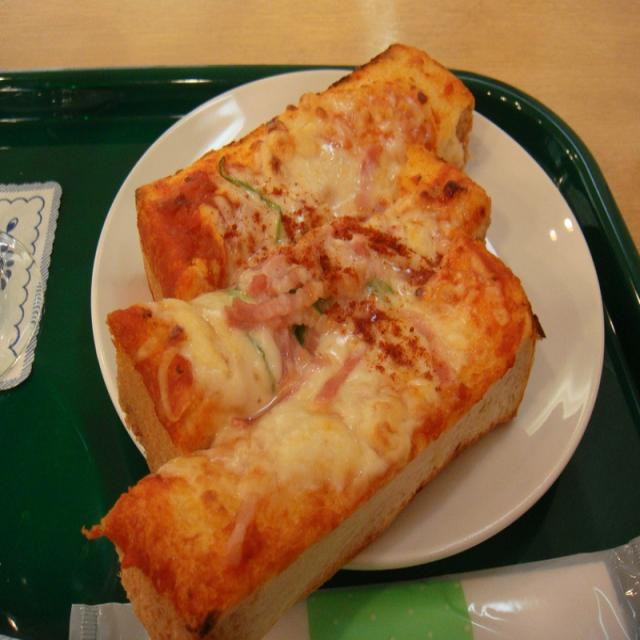面包点心: (66, 43, 599, 640)
